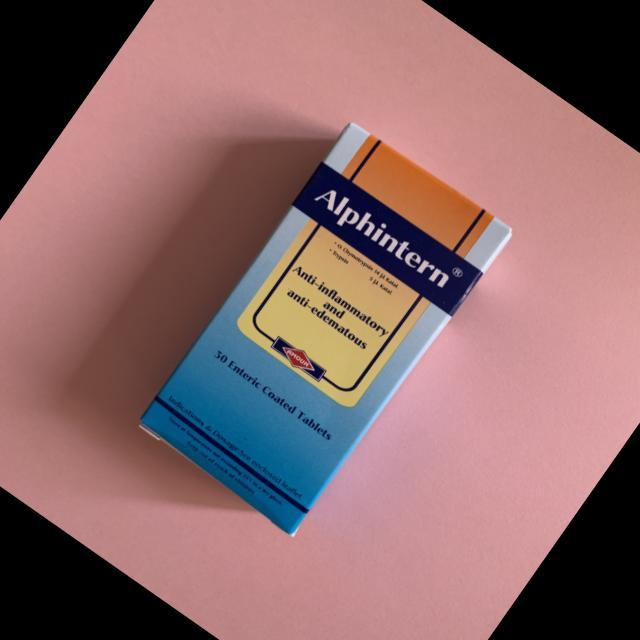Medicine Name: (301, 174, 456, 299)
